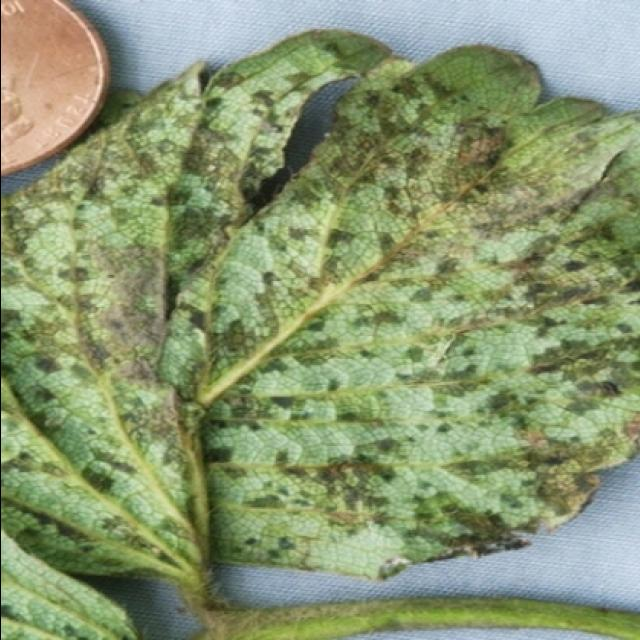Angular Leafspot: (2, 29, 640, 588), (2, 536, 142, 638)
